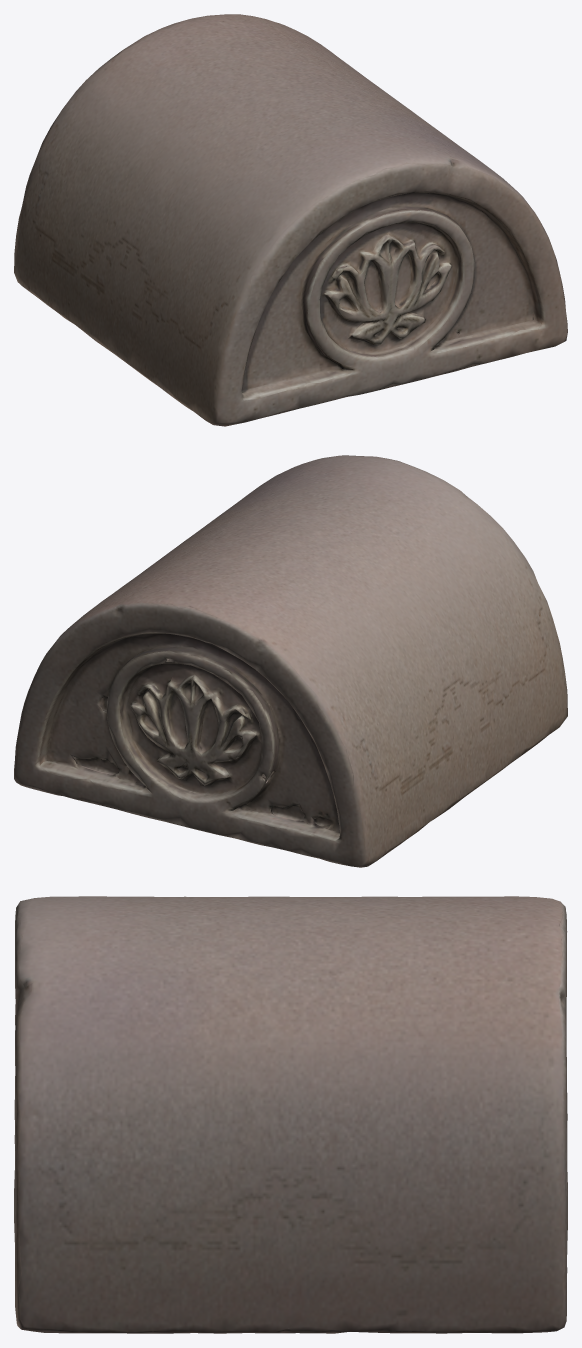
File: DDP_유물_수막새.glb
3 renders of one model, top to bottom at view 1: azimuth 30°, elevation 25°; view 2: azimuth 150°, elevation 25°; view 3: azimuth 270°, elevation 25°, orthographic. The views are drawn at different scales.
Parts seen in each view (by area): view 1: texture_mapping; view 2: texture_mapping; view 3: texture_mapping.
Boxes of the visible parts, x1=… form: texture_mapping: x1=14, y1=14, x2=567, y2=426; texture_mapping: x1=14, y1=455, x2=567, y2=867; texture_mapping: x1=14, y1=896, x2=567, y2=1333.
Size of the model in its own units: 0.9965 by 0.5999 by 1.
1 material, 1 textured.
